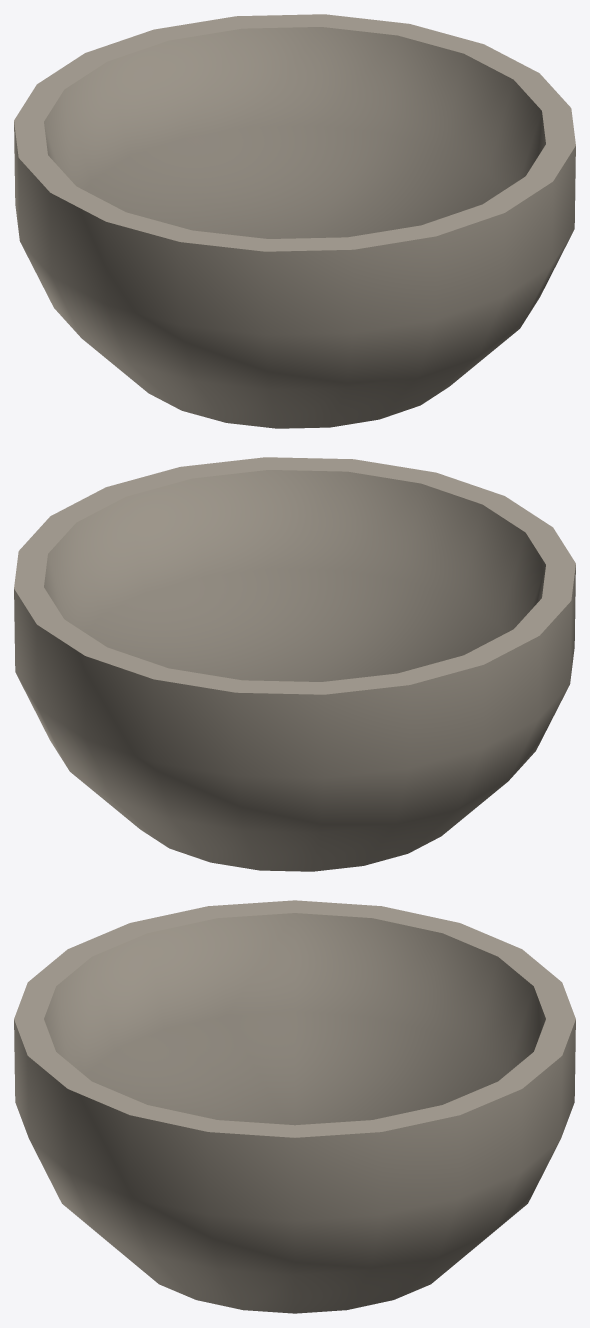
The model's file is Bowl_mesh_vc.fbx.
3 renders of one model, top to bottom at view 1: azimuth 30°, elevation 25°; view 2: azimuth 150°, elevation 25°; view 3: azimuth 270°, elevation 25°, orthographic.
Parts seen in each view (by area): view 1: pCylinder7; view 2: pCylinder7; view 3: pCylinder7.
Part boxes in pixels (x1,y1,x2,y2): pCylinder7: (14, 14, 575, 428); pCylinder7: (14, 457, 575, 871); pCylinder7: (14, 900, 575, 1313).
Bounding box in the file's own units: 646 × 284 × 646.
